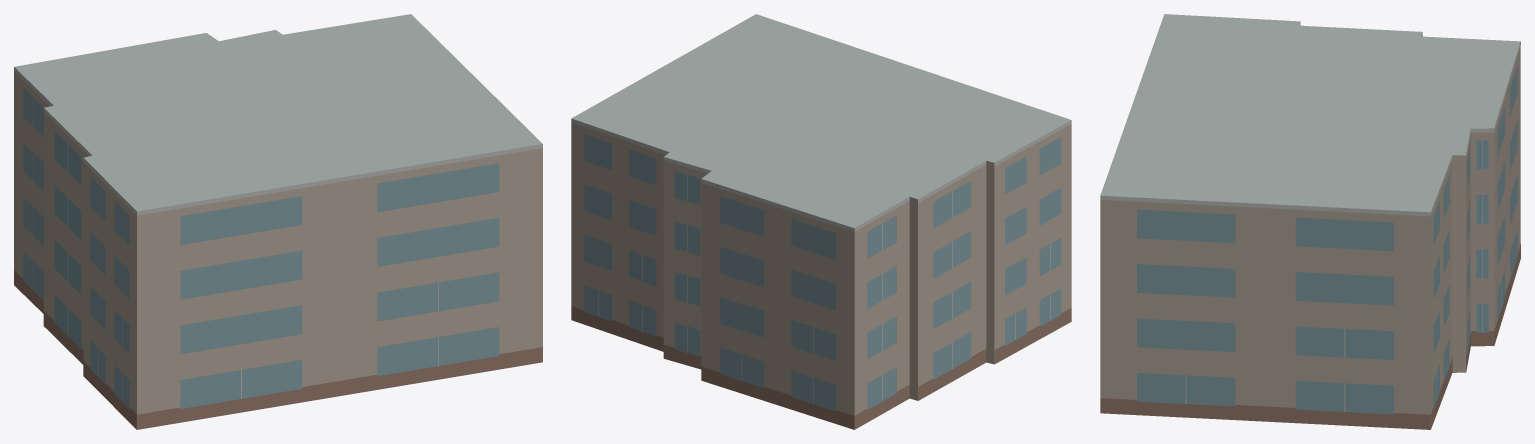
File: survey-upis-32639842.glb
3 views of the same model, side by side, from view 1: azimuth 30°, elevation 25°; view 2: azimuth 150°, elevation 25°; view 3: azimuth 270°, elevation 25° (orthographic). The views are drawn at different scales.
Parts seen in each view (by area): view 1: survey-upis-32639842.tmp; view 2: survey-upis-32639842.tmp; view 3: survey-upis-32639842.tmp.
Boxes of the visible parts, <box> form: survey-upis-32639842.tmp: <box>14,14,542,429</box>; survey-upis-32639842.tmp: <box>571,14,1071,429</box>; survey-upis-32639842.tmp: <box>1100,14,1520,429</box>.
Bounding box in the file's own units: 25.04 × 12.8 × 22.43.
